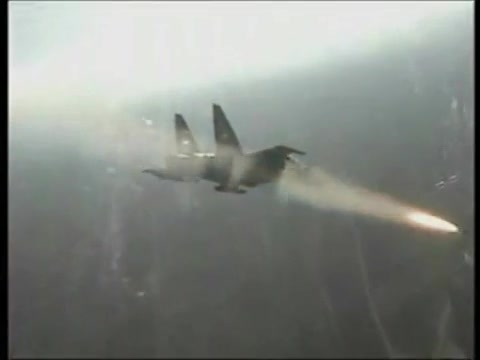aeroplane: (144, 103, 307, 197)
